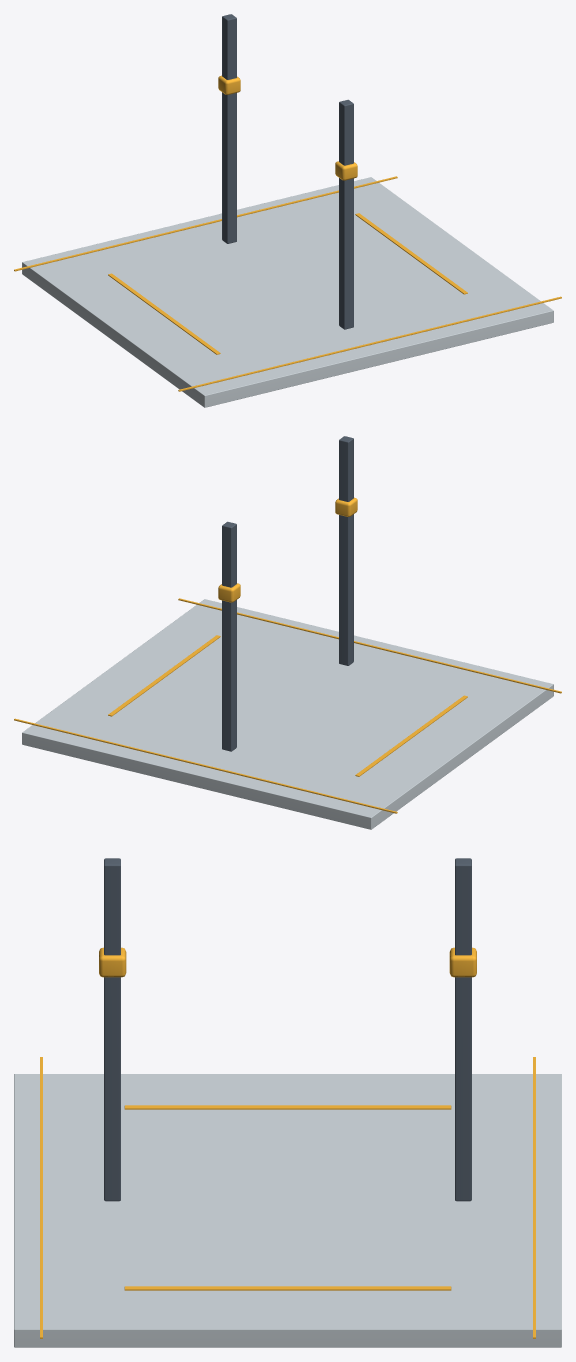
3 views of the same model, one above another, from view 1: azimuth 30°, elevation 25°; view 2: azimuth 150°, elevation 25°; view 3: azimuth 270°, elevation 25° (orthographic). The views are drawn at different scales.
Visible parts, largest first — view 1: Ground plane, Zone scanner post, Zone scanner post.001, Concept clearance guide, Concept clearance guide.001, Floor guidance marking.001, Floor guidance marking; view 2: Ground plane, Zone scanner post.001, Zone scanner post, Concept clearance guide.001, Concept clearance guide, Floor guidance marking.001, Floor guidance marking; view 3: Ground plane, Zone scanner post, Zone scanner post.001, Floor guidance marking, Floor guidance marking.001, Concept clearance guide, Concept clearance guide.001, Safety scanner, Safety scanner.001.
Boxes of the visible parts, box(x1,y1,x2,y2) form: Ground plane: box(22, 177, 553, 407); Zone scanner post: box(339, 99, 353, 329); Zone scanner post.001: box(222, 14, 236, 243); Concept clearance guide: box(178, 296, 561, 391); Concept clearance guide.001: box(14, 176, 397, 271); Floor guidance marking.001: box(355, 213, 467, 294); Floor guidance marking: box(108, 273, 220, 354); Ground plane: box(22, 599, 553, 829); Zone scanner post.001: box(222, 521, 236, 751); Zone scanner post: box(339, 436, 353, 665); Concept clearance guide.001: box(14, 718, 397, 813); Concept clearance guide: box(178, 598, 561, 693); Floor guidance marking.001: box(108, 635, 220, 716); Floor guidance marking: box(355, 695, 467, 776); Ground plane: box(14, 1074, 561, 1347); Zone scanner post: box(104, 858, 120, 1201); Zone scanner post.001: box(455, 858, 471, 1201); Floor guidance marking: box(124, 1105, 451, 1109); Floor guidance marking.001: box(124, 1286, 451, 1290); Concept clearance guide: box(40, 1057, 42, 1338); Concept clearance guide.001: box(533, 1057, 535, 1338); Safety scanner: box(99, 947, 126, 977); Safety scanner.001: box(449, 947, 476, 977).
Bounding box in the file's own units: 3.9 × 2.33 × 3.22.
